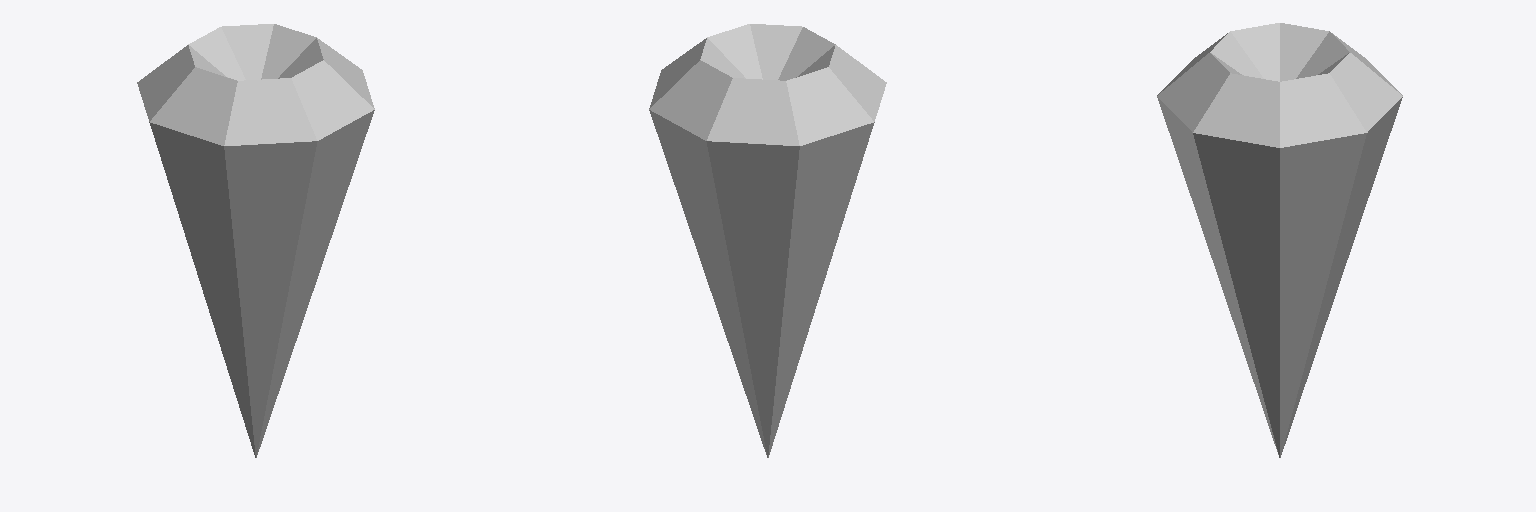
File: solarLens.obj
3 renders of one model, left to right at view 1: azimuth 30°, elevation 25°; view 2: azimuth 150°, elevation 25°; view 3: azimuth 270°, elevation 25°, orthographic.
Visible parts, largest first — view 1: Sphere; view 2: Sphere; view 3: Sphere.
Boxes of the visible parts, box(x1,y1,x2,y2) form: Sphere: box(137, 24, 374, 457); Sphere: box(649, 24, 886, 457); Sphere: box(1157, 23, 1402, 457).
Size of the model in its own units: 2 by 3.65 by 2.